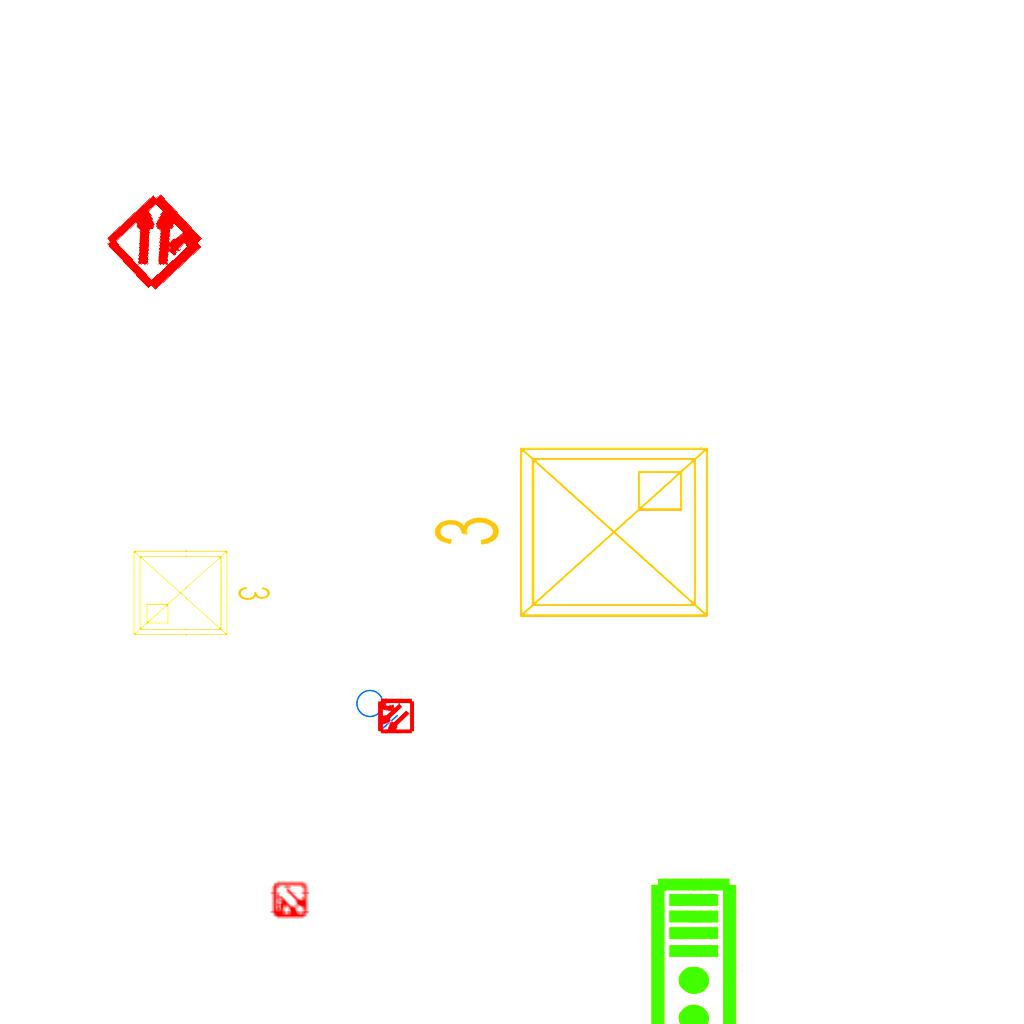Einbaudownlights_LED_Konferenzraeume: (423, 432, 723, 640), (126, 539, 276, 643)
Elektroanschluss_allgemein_230V_Geraeteanschlussdose_230V: (355, 685, 402, 734)
Gegensprechanlage_mit_Video: (648, 876, 743, 1024)
OT_Multisensormelder_(Kombination_RMO_WMD): (76, 160, 237, 321), (262, 873, 318, 929), (367, 688, 423, 744)
